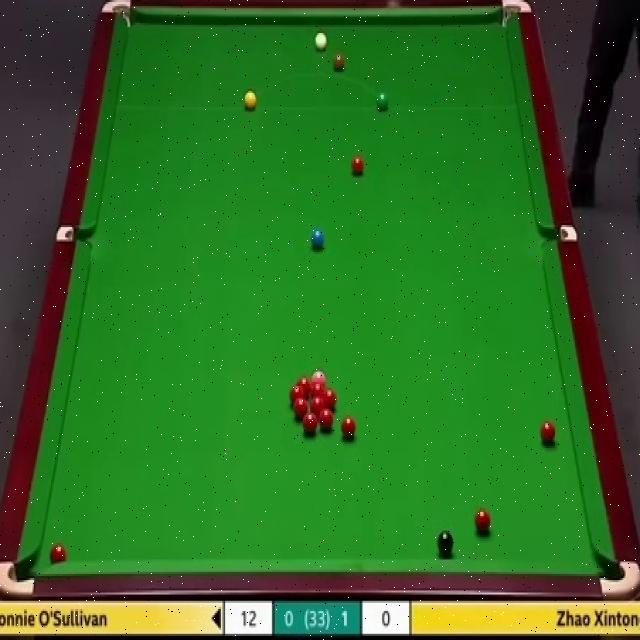black-ball: (437, 531, 454, 557)
blue-ball: (310, 228, 325, 251)
brown-ball: (332, 54, 346, 74)
green-ball: (375, 92, 391, 114)
pink-ball: (312, 371, 326, 382)
red-ball: (475, 508, 492, 535), (350, 153, 365, 178), (540, 422, 556, 445), (51, 542, 67, 563), (318, 410, 333, 432), (342, 417, 356, 440), (290, 385, 307, 402), (304, 414, 317, 436), (323, 390, 337, 410), (294, 399, 307, 420), (297, 379, 312, 397), (311, 397, 325, 412), (310, 381, 322, 398)
white-ball: (314, 33, 328, 54)
yellow-ball: (244, 90, 257, 111)
